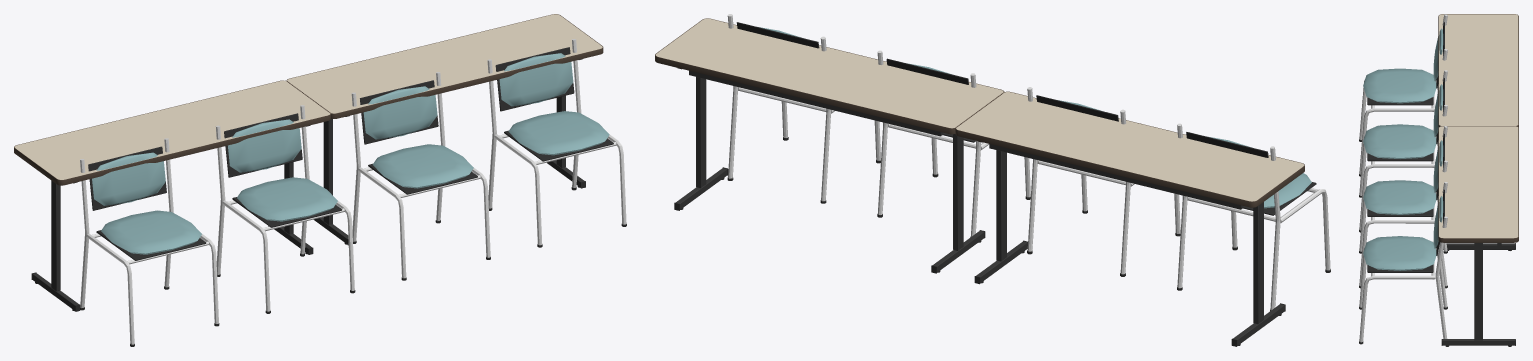
Rendered from Kit_TrainingTable_Row2_Tucked_Teal.fbx.
3 renders of one model, left to right at view 1: azimuth 30°, elevation 25°; view 2: azimuth 150°, elevation 25°; view 3: azimuth 270°, elevation 25°, orthographic. The views are drawn at different scales.
Visible parts, largest first — view 1: Kit_TrainingTable_Row2_Tucked_LOD0; view 2: Kit_TrainingTable_Row2_Tucked_LOD0; view 3: Kit_TrainingTable_Row2_Tucked_LOD0.
Boxes of the visible parts, <box> form: Kit_TrainingTable_Row2_Tucked_LOD0: <box>14,14,626,346</box>; Kit_TrainingTable_Row2_Tucked_LOD0: <box>655,14,1330,346</box>; Kit_TrainingTable_Row2_Tucked_LOD0: <box>1359,14,1518,346</box>.
Size of what is drawn, in the model's own units: 3.05 by 0.8015 by 0.92.
